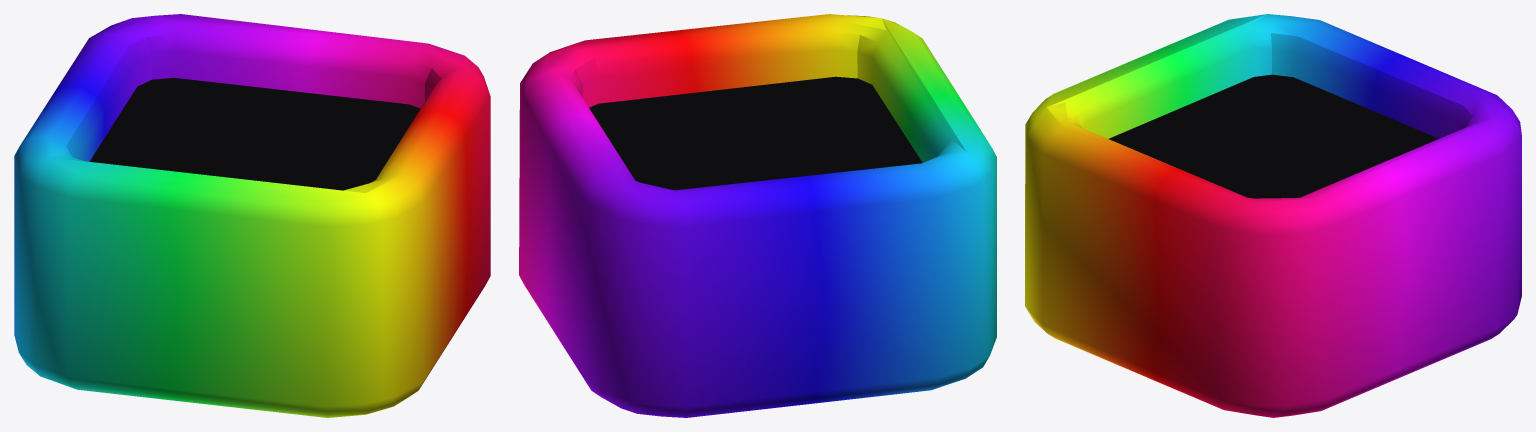
File: Particle-21.dae
The picture shows the model from 3 angles, left to right: view 1: azimuth 30°, elevation 25°; view 2: azimuth 150°, elevation 25°; view 3: azimuth 270°, elevation 25°; orthographic projection. The views are drawn at different scales.
Visible parts, largest first — view 1: Particle; view 2: Particle; view 3: Particle.
Part boxes in pixels (bbox=[...]): Particle: bbox=[14, 14, 490, 417]; Particle: bbox=[519, 14, 996, 417]; Particle: bbox=[1025, 14, 1521, 417].
Bounding box in the file's own units: 0.1275 × 0.06 × 0.1275.
Materials: 2 (1 with a texture image).
